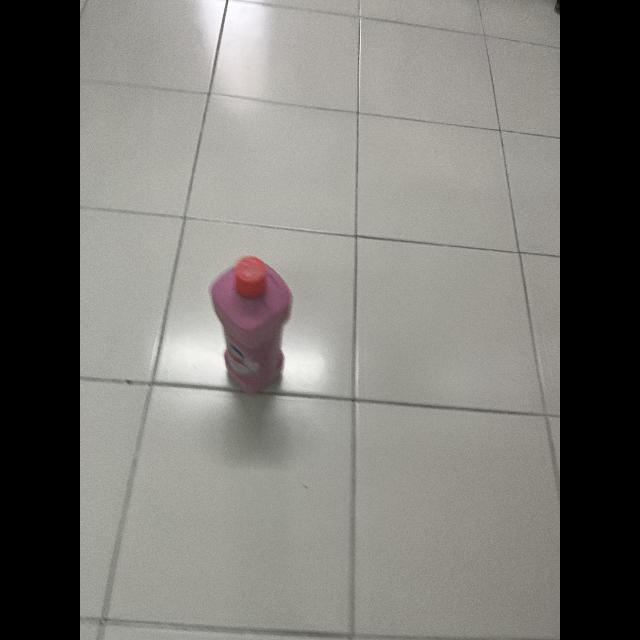chemical_plastic_bottle: (206, 251, 296, 401)
